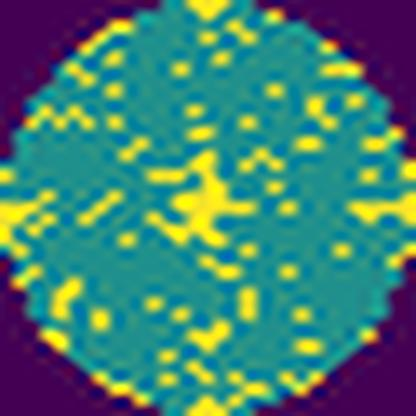Center: (142, 147, 260, 251)
